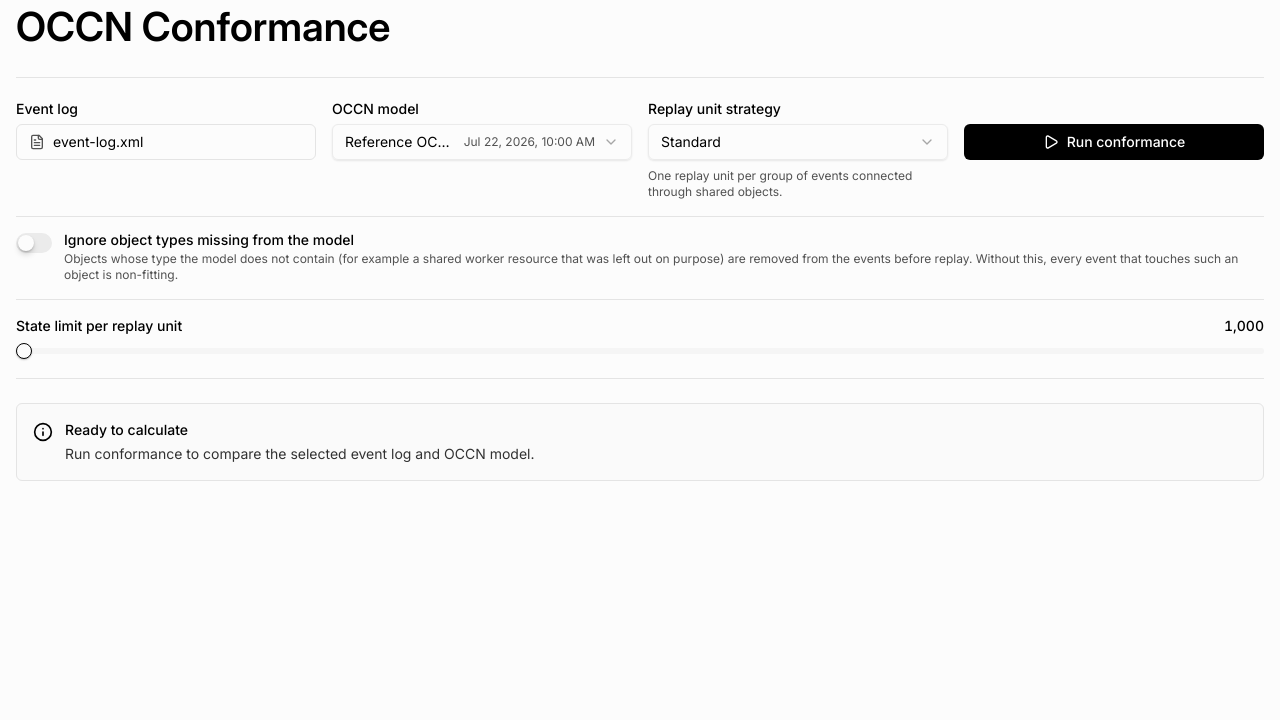
Scenario: OCCN conformance workflow integration › retries a failed replay-detail request
Expected: the text "Ready to calculate" is shown, [65,421,188,438]
Step 1. Click the button "Run conformance" → (1114, 142), box [964,124,1264,160]
(page scrolled)
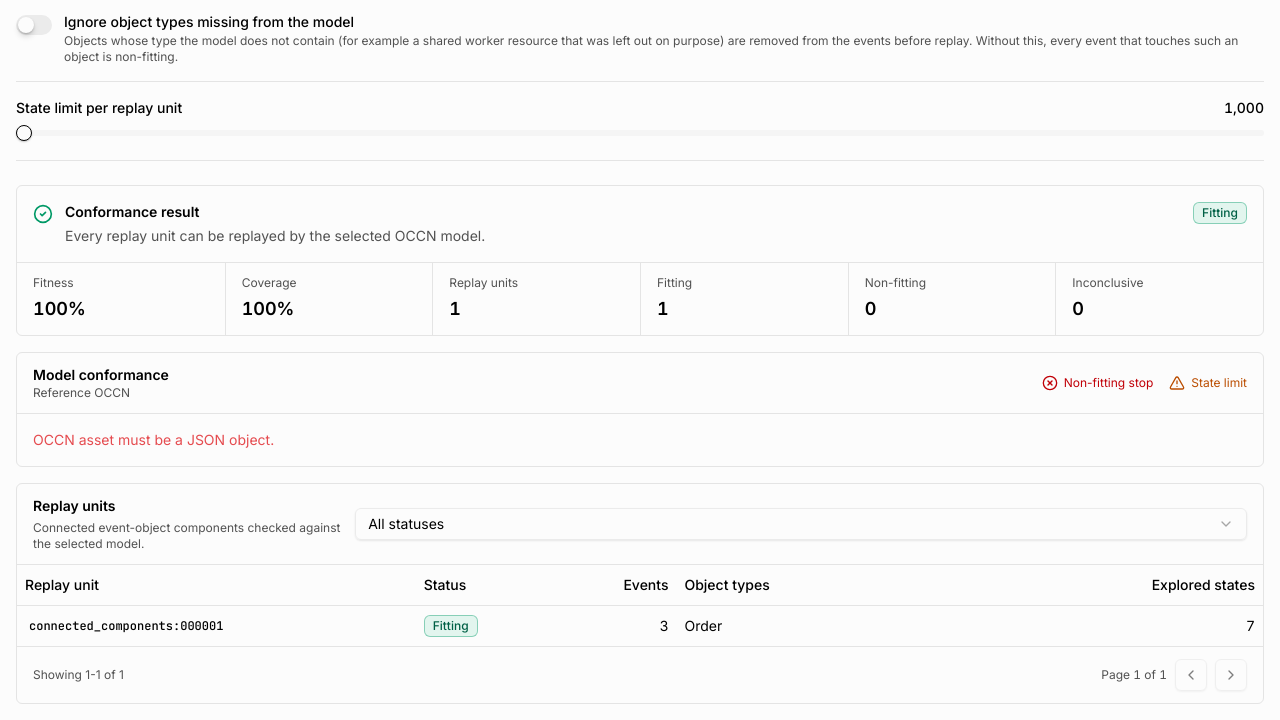
Expected: the element "Conformance result" shows "Every replay unit can be replayed", [65,227,485,244]
Step 2. Click the button "connected_components:000001" → (126, 626), box [25,614,227,638]
(page scrolled)
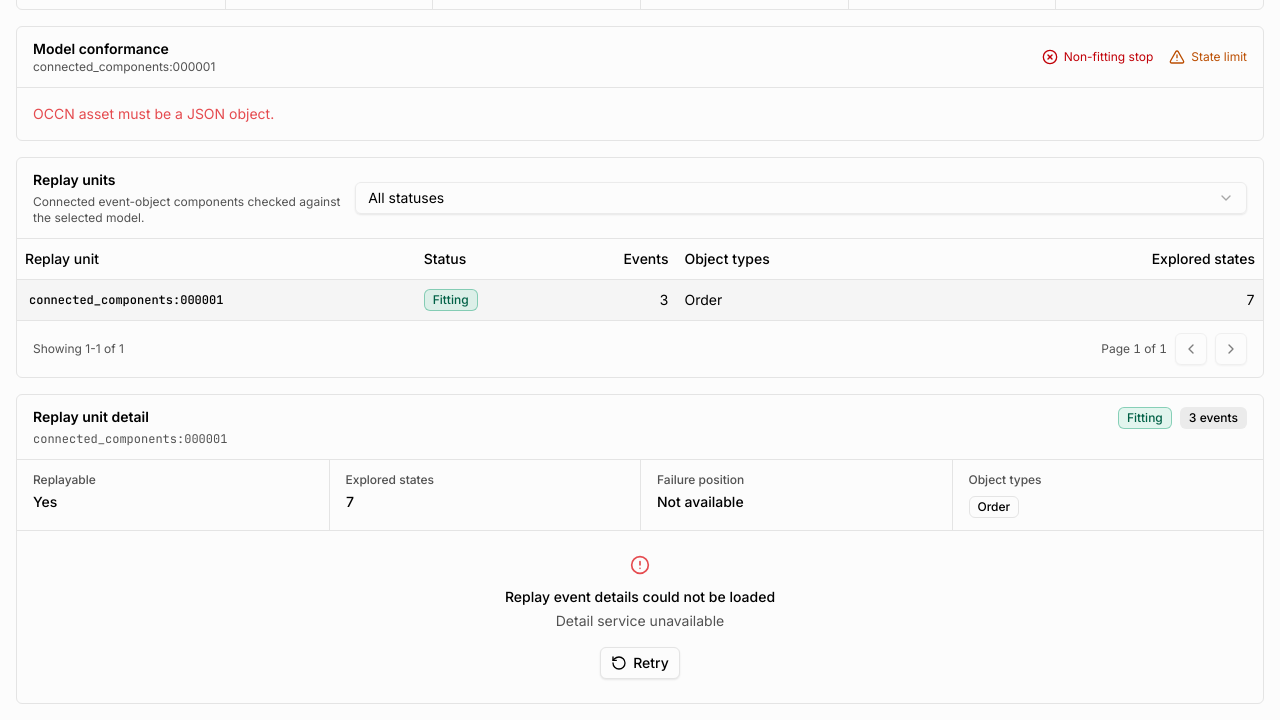
Expected: the message shows "Detail service unavailable", [556,612,724,629]
Step 3. Click the button "Retry" → (640, 663), box [600,647,680,679]
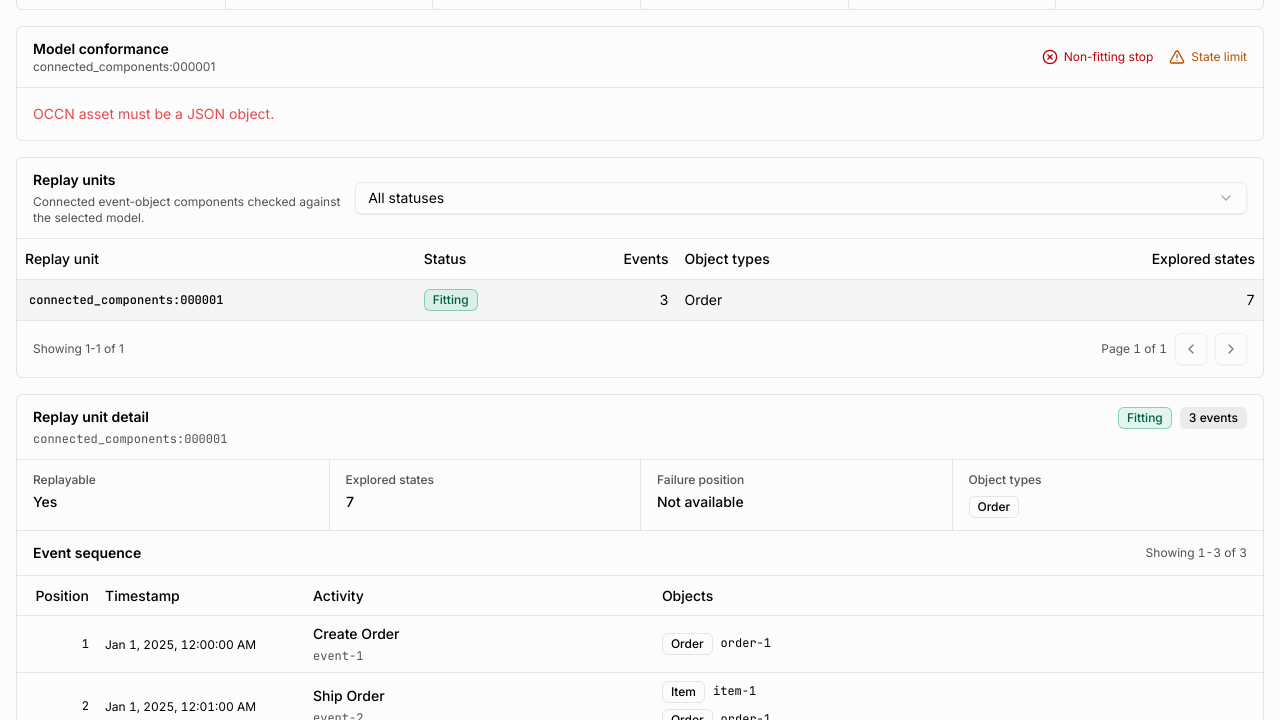
Expected: the text "Create Order" is shown, [313,624,400,644]
